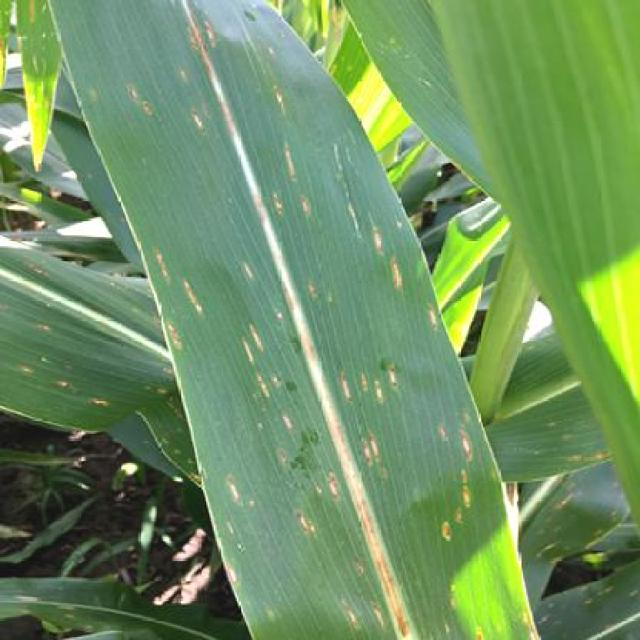Corn_Grey_Leaf_Spot: (108, 54, 435, 603)
